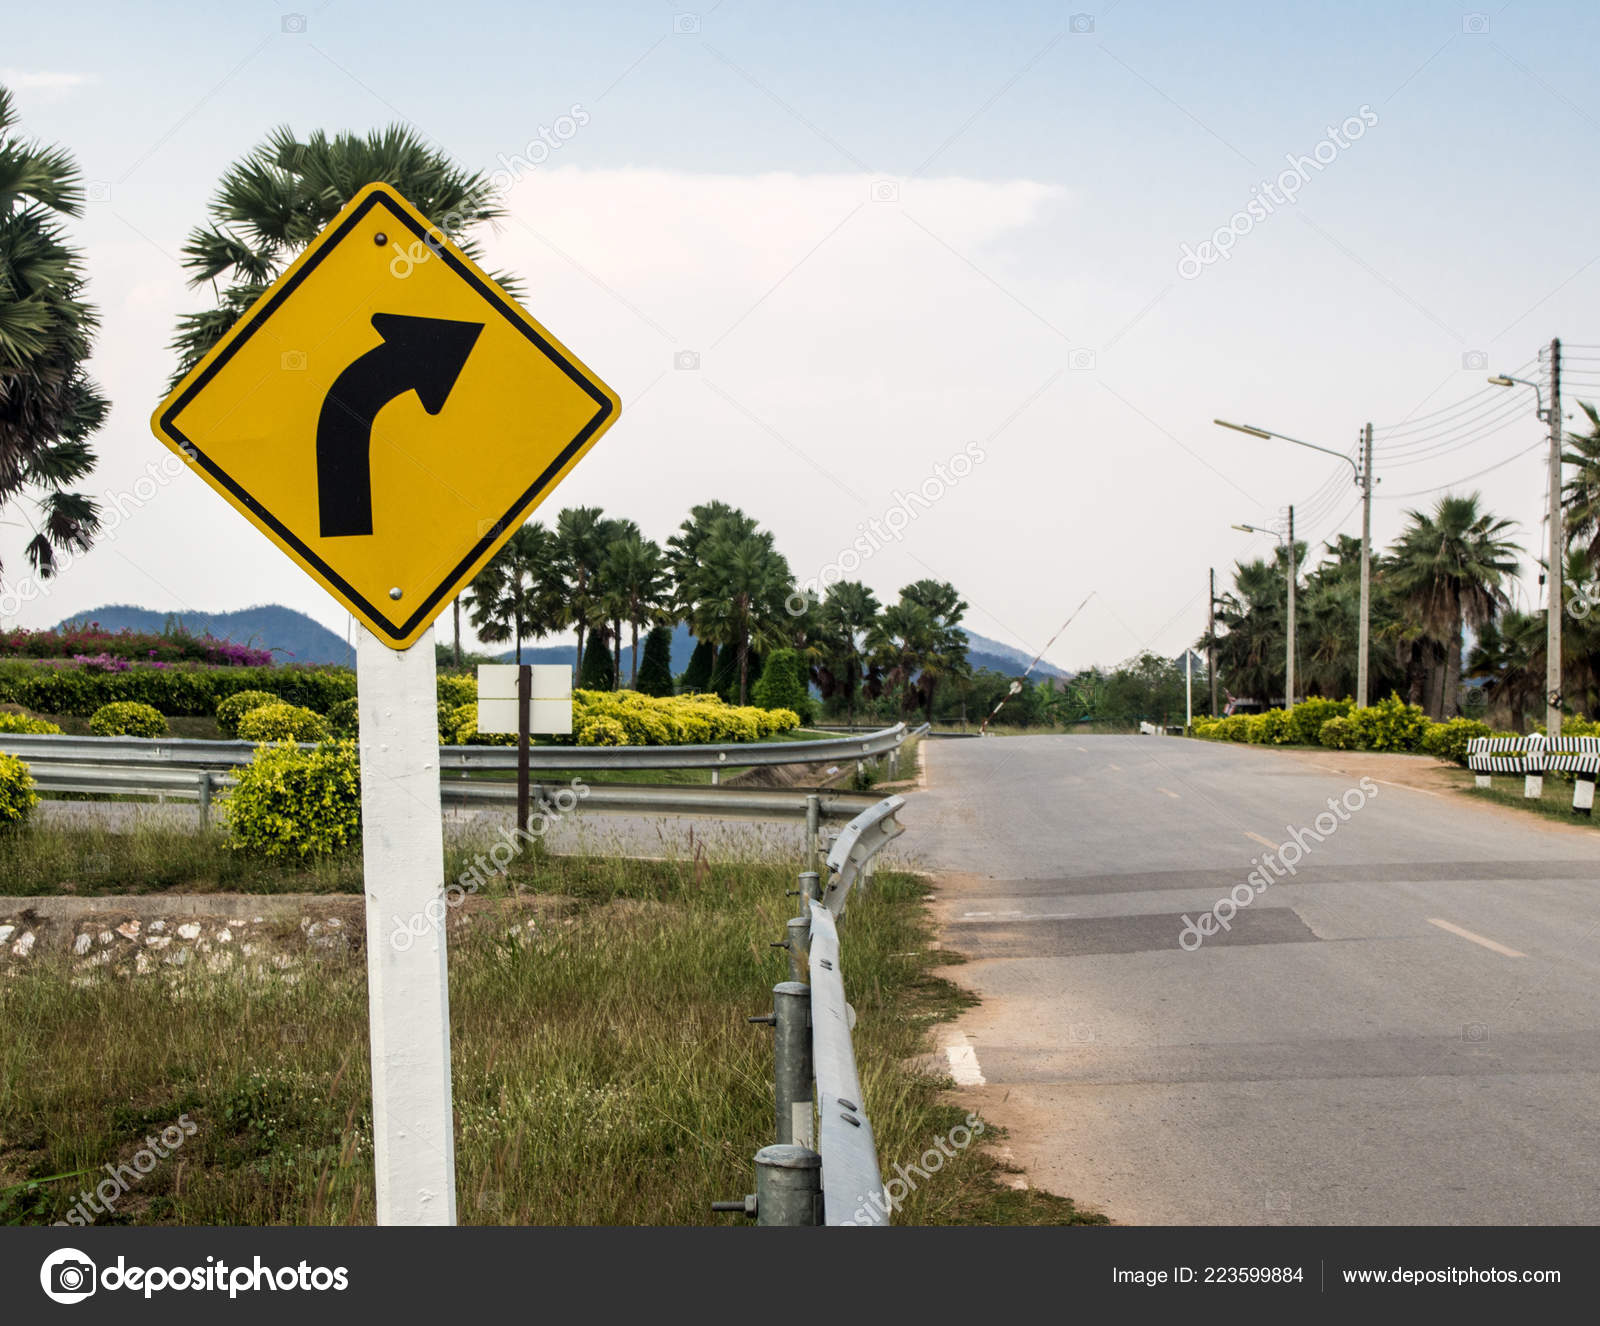right: (140, 174, 630, 656)
